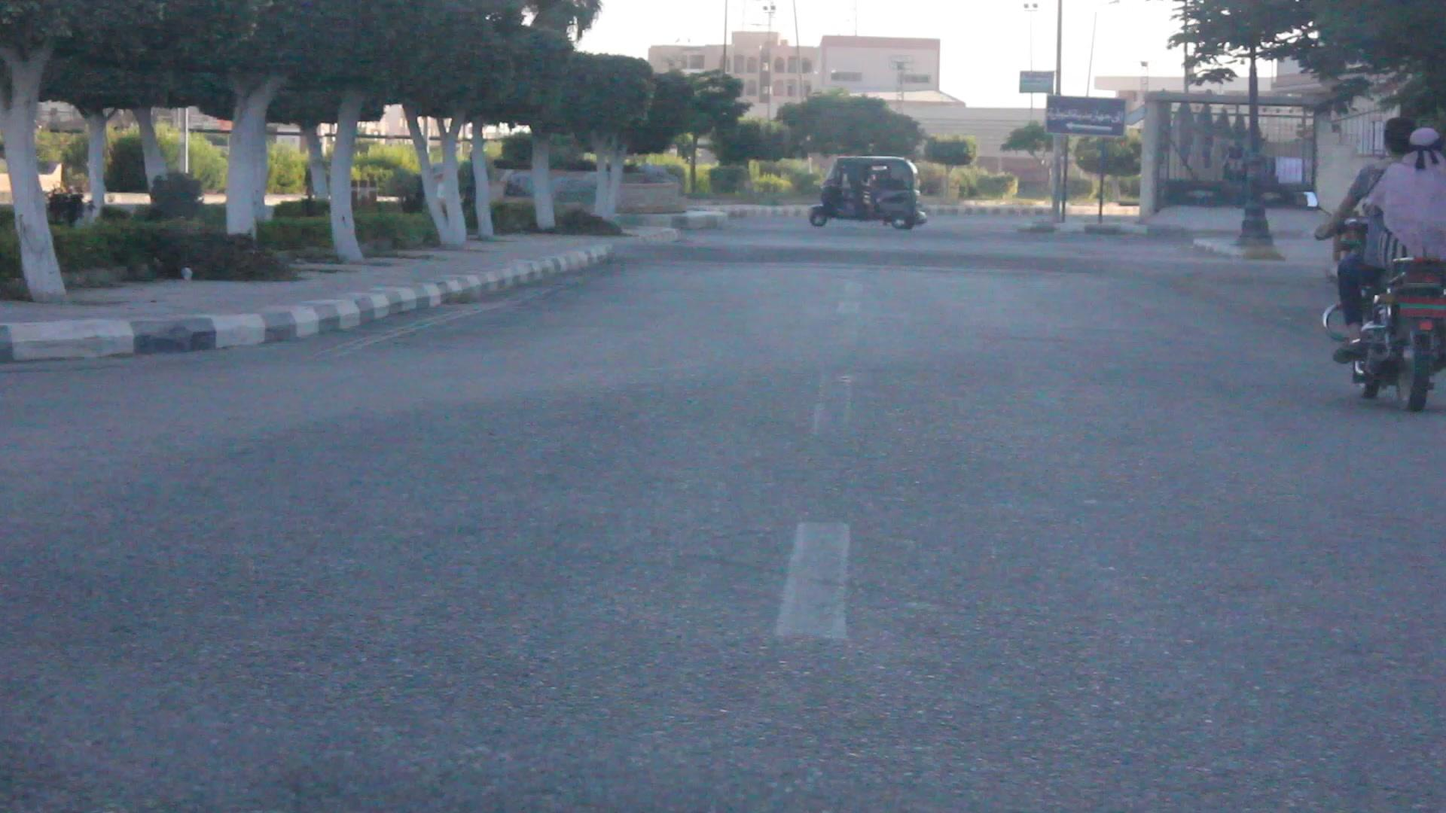Bump: (616, 231, 1171, 284)
